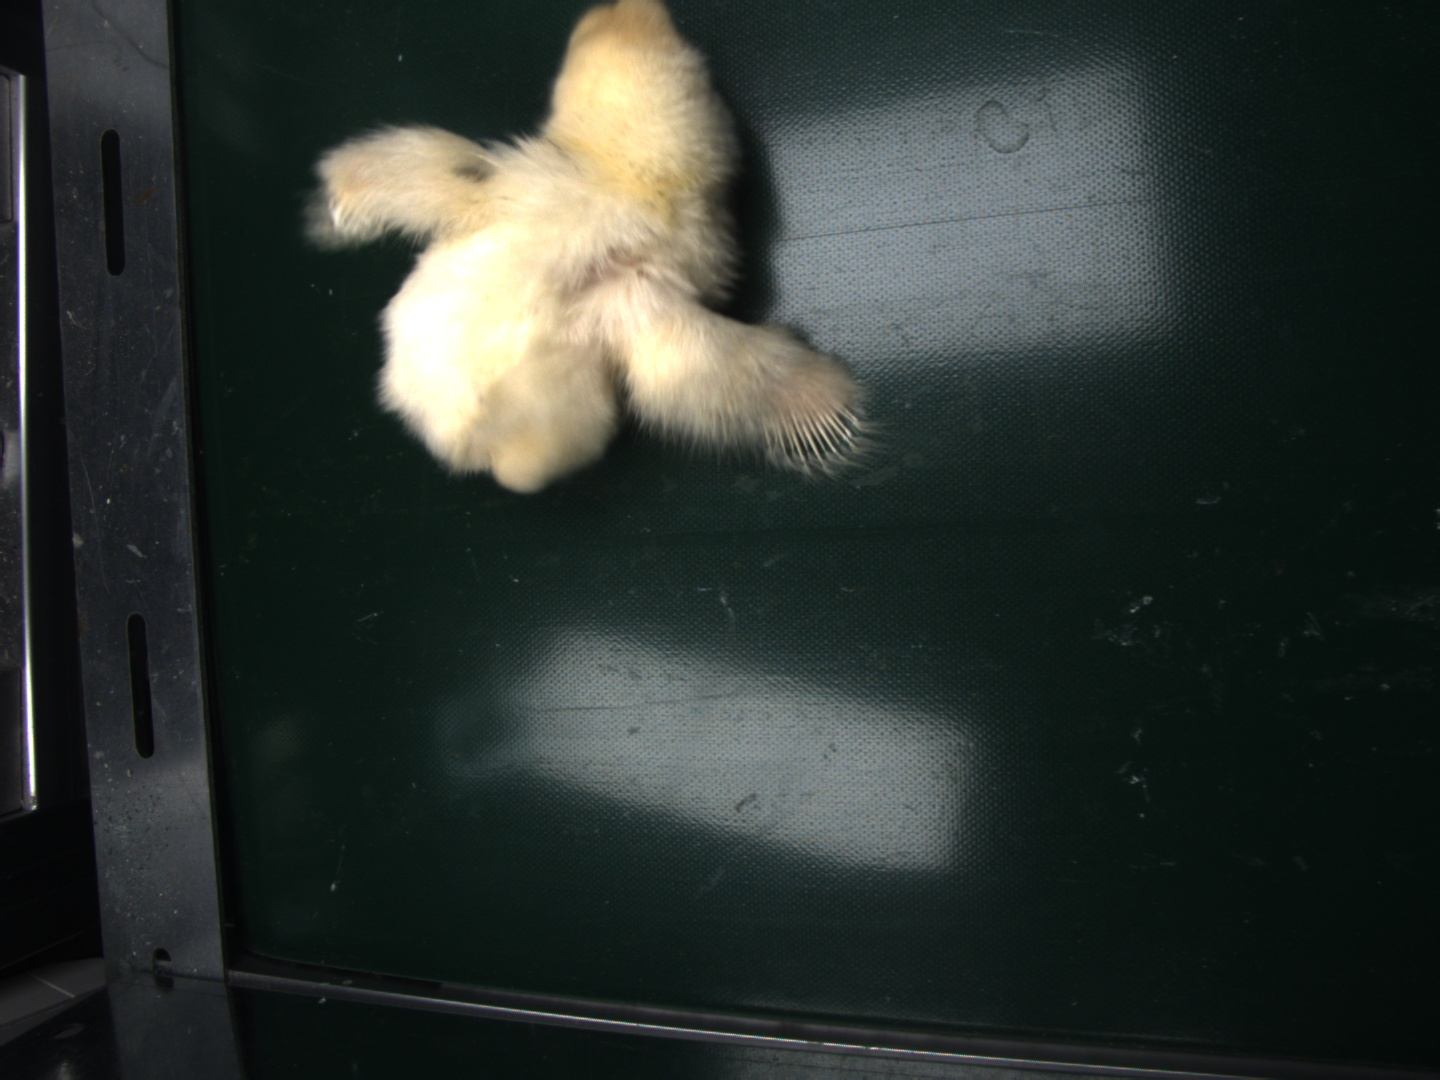male: (768, 403, 863, 466)
